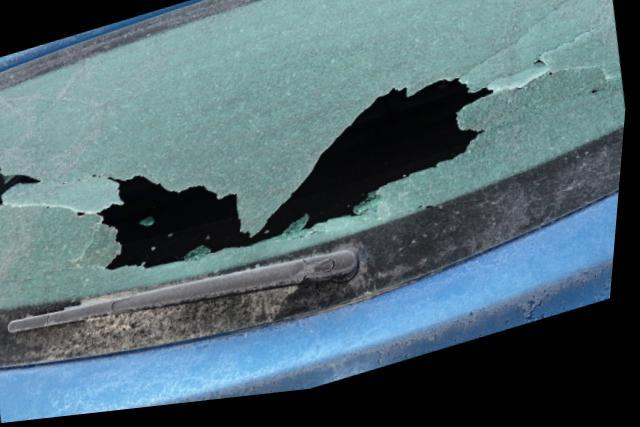glass shatter: (0, 0, 628, 369)
